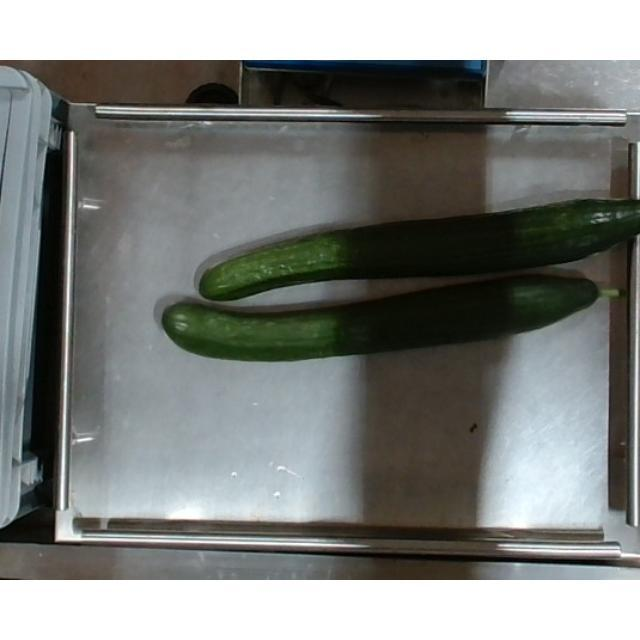cucumber: (196, 195, 640, 302), (162, 272, 630, 372)
